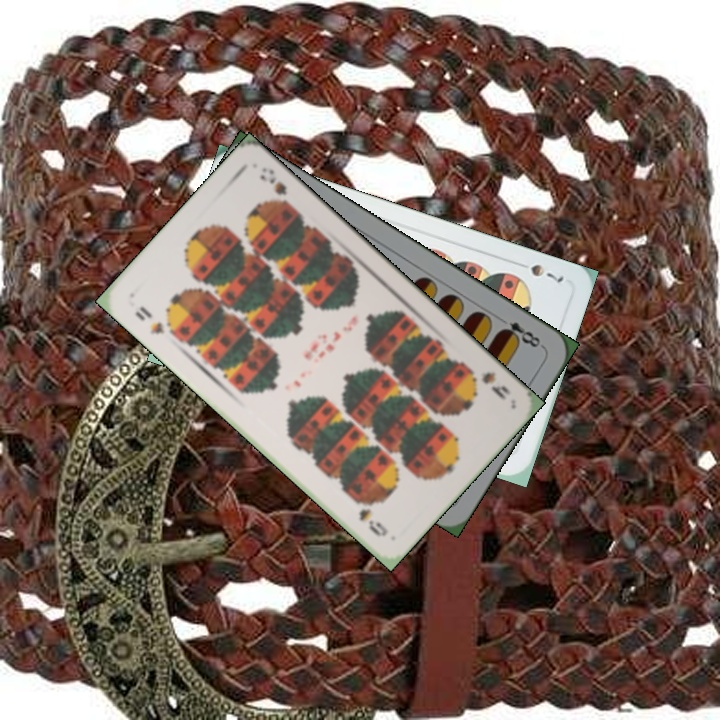E8: (494, 312, 546, 351)
S7: (511, 257, 567, 285)
S9: (463, 362, 513, 403), (130, 302, 168, 337)
